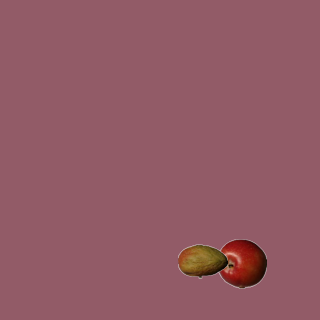Apple Braeburn: (216, 238, 266, 288)
Papaya: (177, 236, 227, 286)
